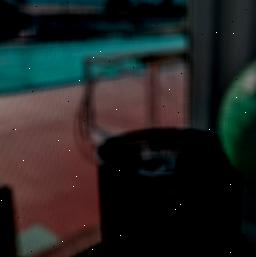algae: (214, 38, 256, 196)
